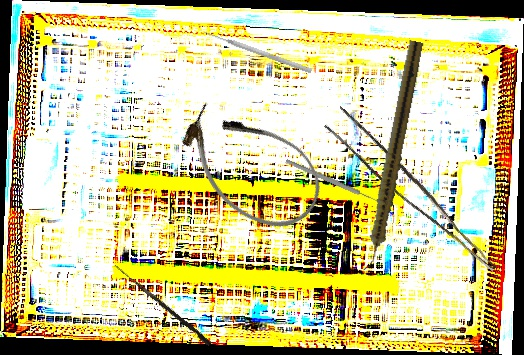Cannula: (163, 85, 339, 248)
Handpiece: (359, 39, 425, 273)
Hook Surgical: (110, 264, 214, 347)
Pusher: (202, 28, 313, 75)
Surgical Spoon: (284, 158, 392, 210)
Tissue Forceps: (319, 106, 514, 272)
